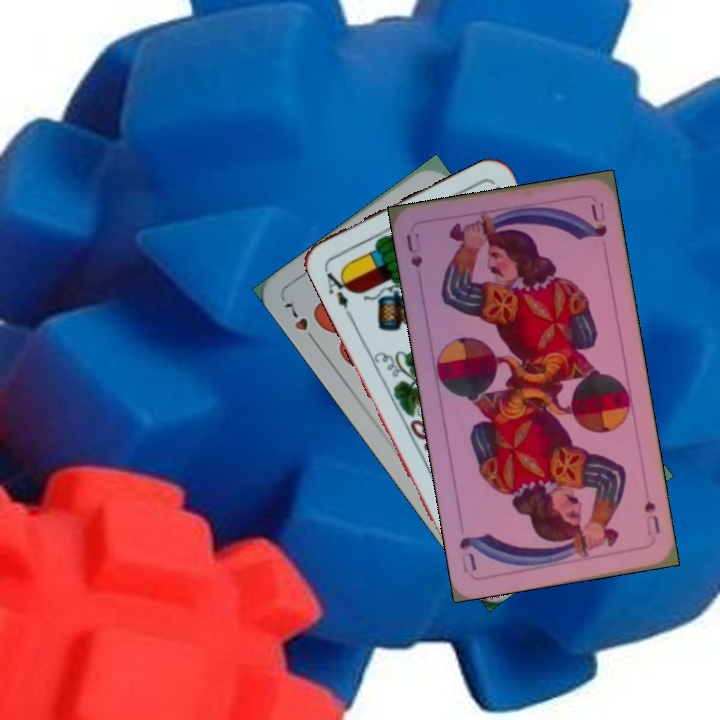EA: (320, 263, 355, 319)
H7: (279, 298, 320, 347)
SU: (401, 229, 425, 271), (640, 496, 663, 538)
